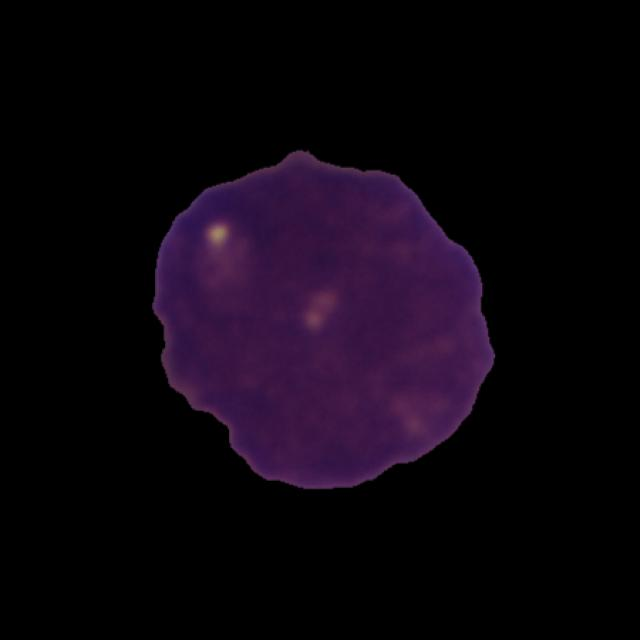ALL Positive Cell: (155, 152, 491, 485)
